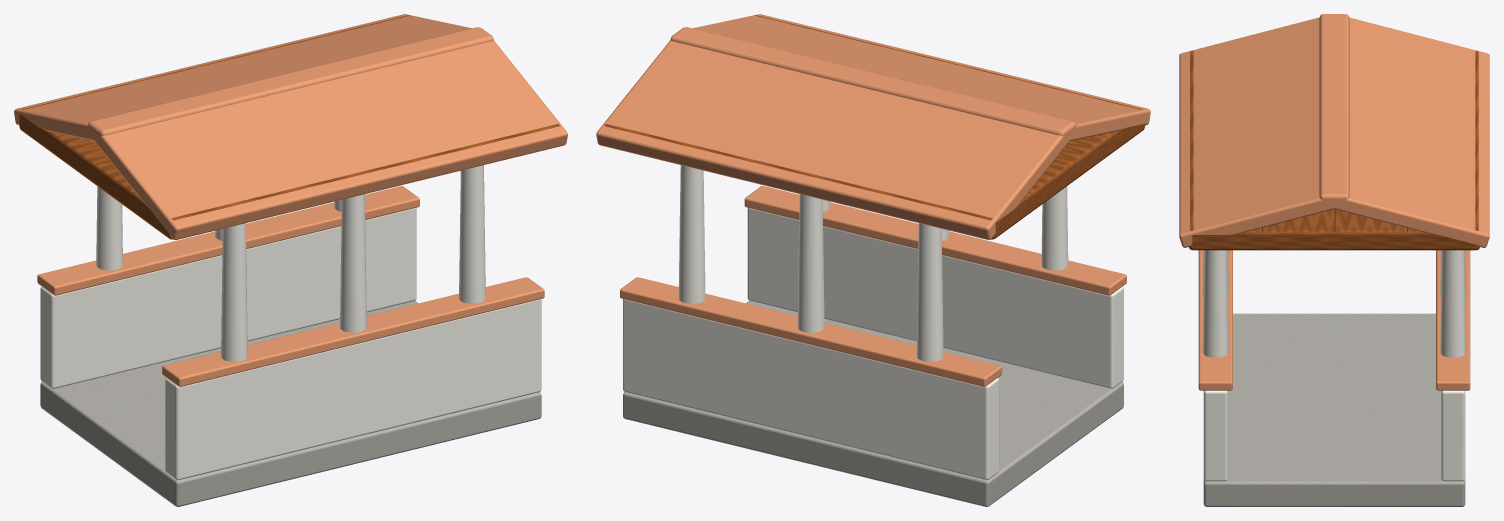
The model's file is hero-shooter-harbour-payload-covered-bridge-span-163146a7__27721.glb.
3 views of the same model, side by side, from view 1: azimuth 30°, elevation 25°; view 2: azimuth 150°, elevation 25°; view 3: azimuth 270°, elevation 25° (orthographic). The views are drawn at different scales.
Parts seen in each view (by area): view 1: covered-bridge-span; view 2: covered-bridge-span; view 3: covered-bridge-span.
Boxes of the visible parts, <box> form: covered-bridge-span: <box>14,14,567,506</box>; covered-bridge-span: <box>596,14,1150,506</box>; covered-bridge-span: <box>1179,14,1489,506</box>.
Bounding box in the file's own units: 4.3 × 3.5 × 3.09.
Materials: 4 (2 with a texture image).
